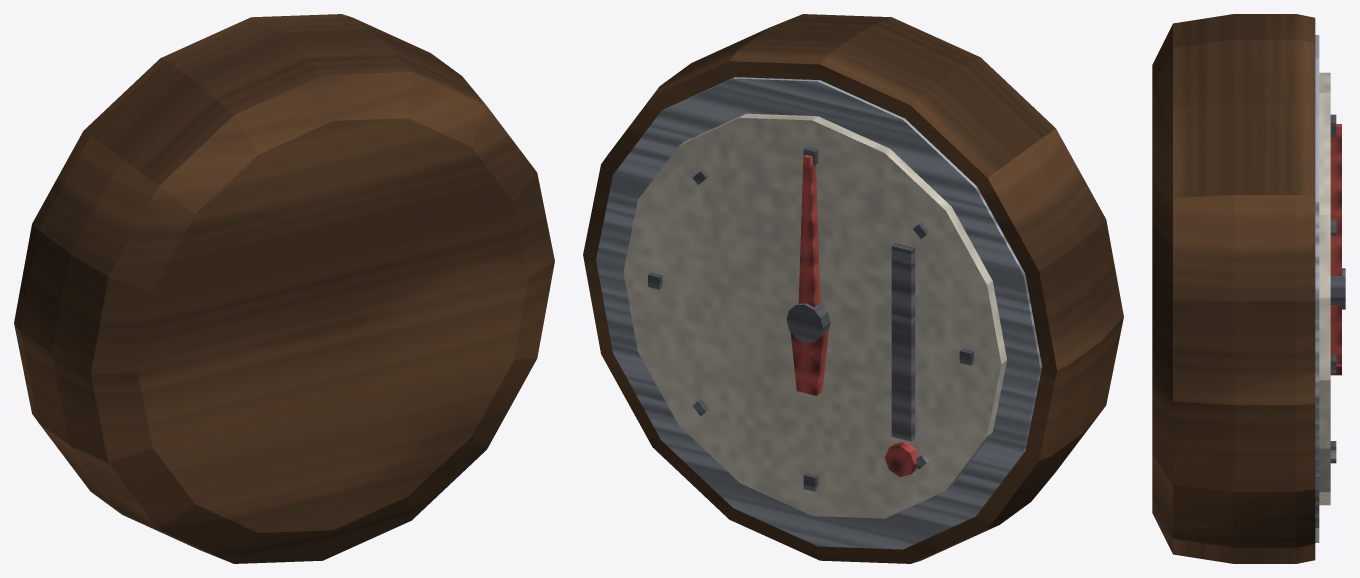
The model's file is marine_barometer.fbx.
3 views of the same model, side by side, from view 1: azimuth 30°, elevation 25°; view 2: azimuth 150°, elevation 25°; view 3: azimuth 270°, elevation 25° (orthographic).
Parts seen in each view (by area): view 1: marine_barometer; view 2: marine_barometer; view 3: marine_barometer.
Boxes of the visible parts, <box> form: marine_barometer: <box>14,14,554,563</box>; marine_barometer: <box>583,14,1123,563</box>; marine_barometer: <box>1152,14,1345,563</box>.
Size of the model in its own units: 29 by 29 by 10.2.
